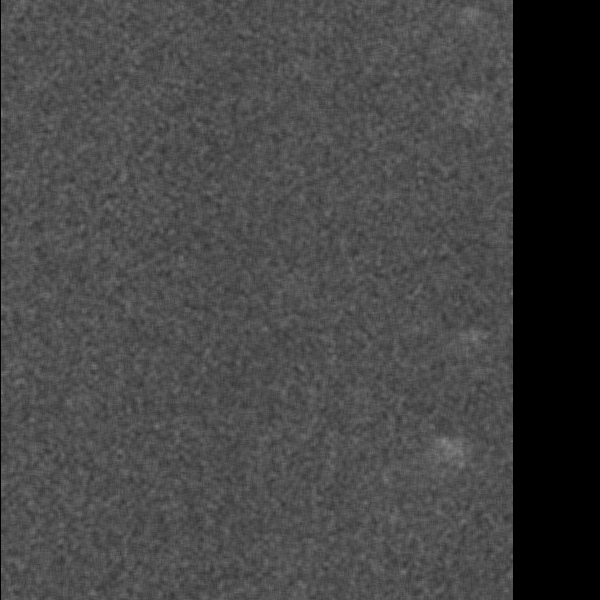spark: (82, 25, 121, 159), (160, 19, 221, 58), (166, 545, 220, 585), (74, 233, 117, 272), (161, 65, 194, 104), (172, 428, 195, 456)
